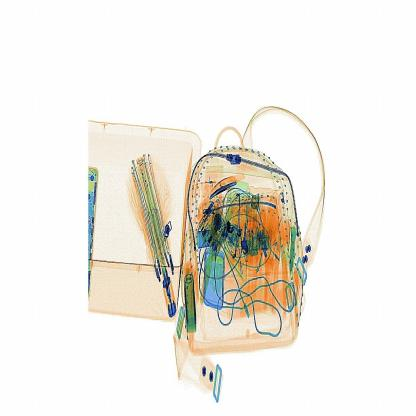pliers: (203, 167, 252, 211)
